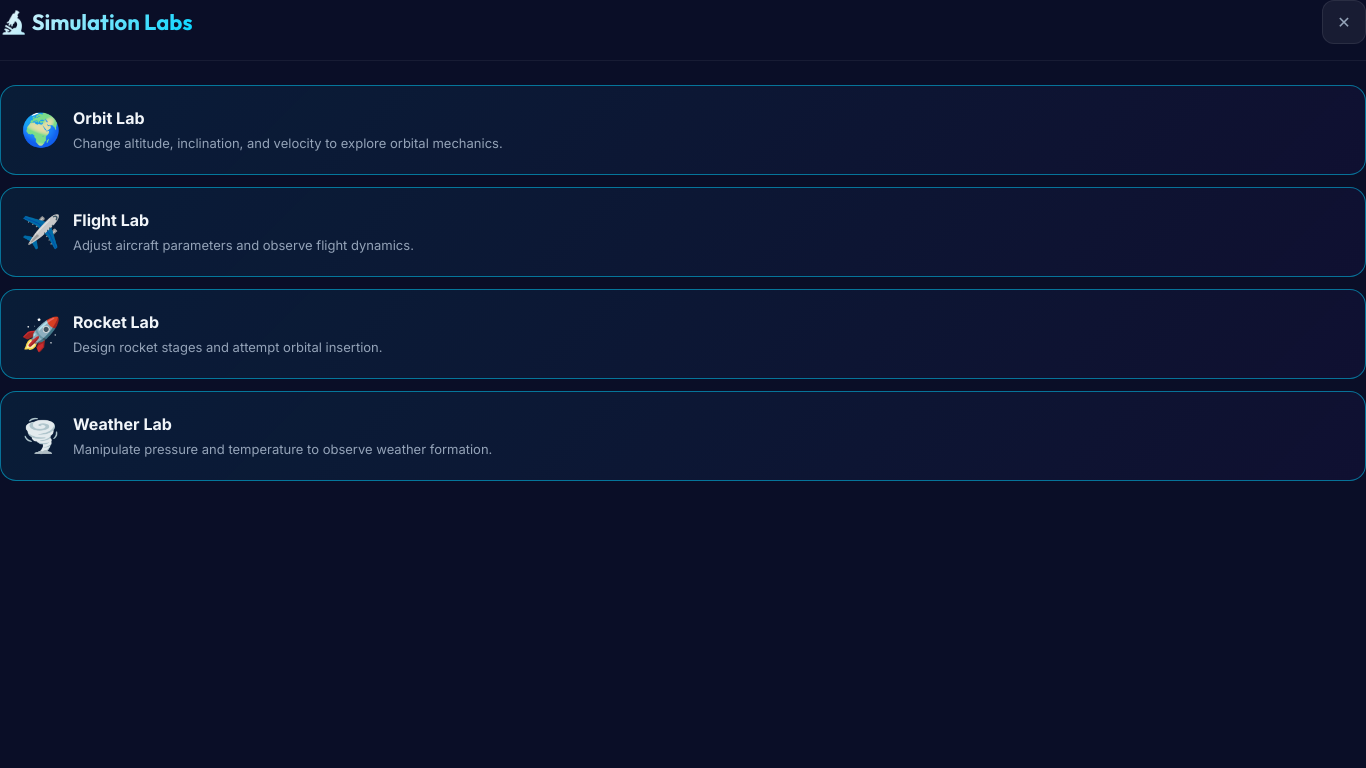
Scenario: LabPanel › clicking orbit lab opens it
The width and height of the screenshot is (1366, 768).
Click the text "Orbit Lab" at {"x": 109, "y": 118}, box [73, 108, 144, 128]
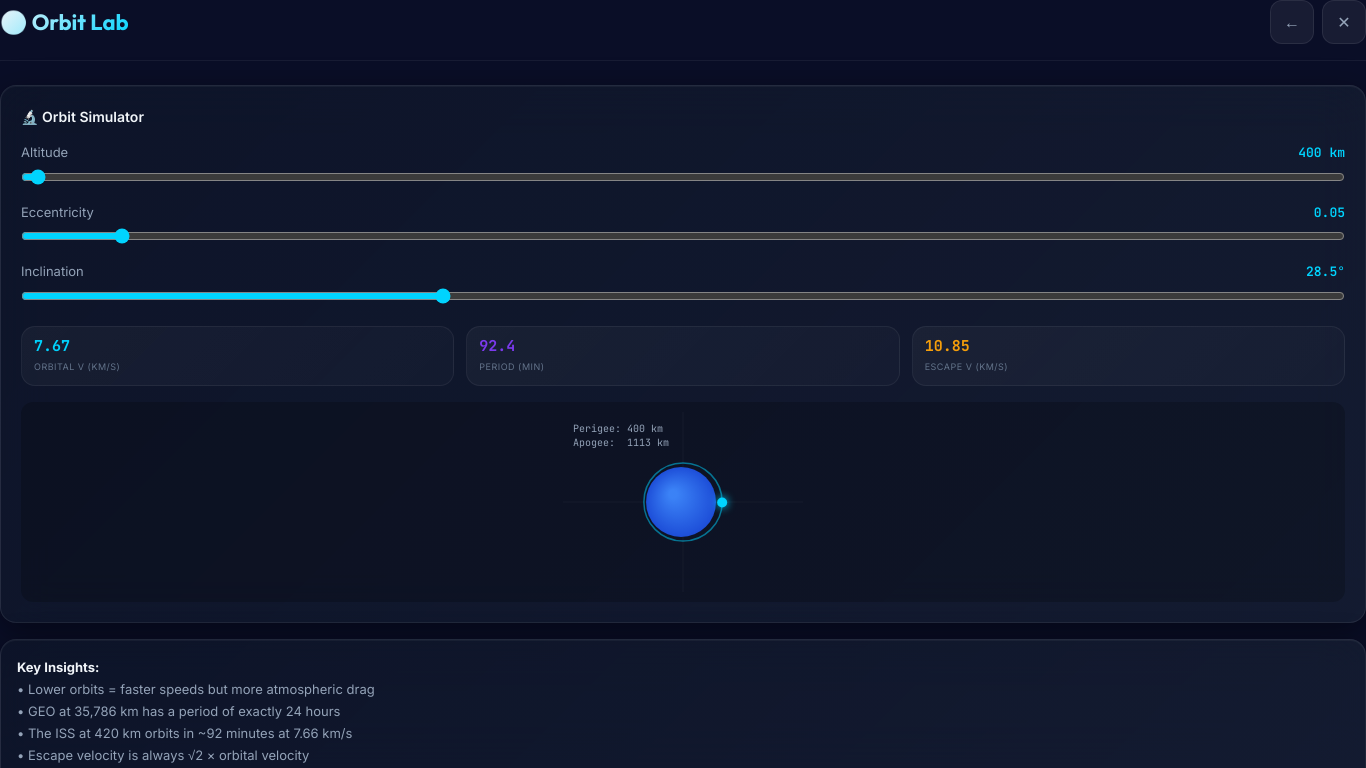
expect the text "🌍 Orbit Lab" is shown: met, box [0, 6, 129, 38]
expect the text "🔬 Orbit Simulator" is shown: met, box [21, 108, 144, 125]
